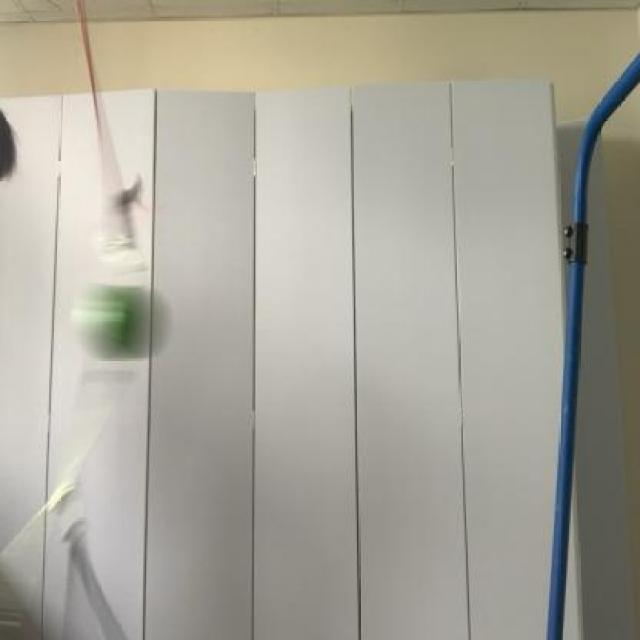baseball: (60, 274, 177, 380)
